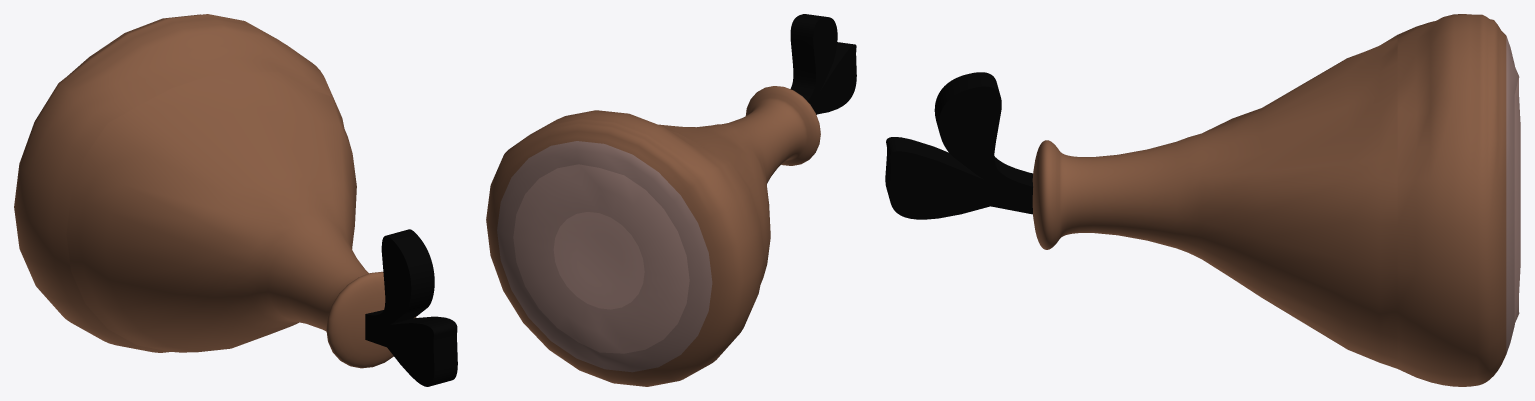
The model's file is SchinkenOne.fbx.
The picture shows the model from 3 angles, left to right: view 1: azimuth 30°, elevation 25°; view 2: azimuth 150°, elevation 25°; view 3: azimuth 270°, elevation 25°; orthographic projection. The views are drawn at different scales.
Visible parts, largest first — view 1: Lathe_1; view 2: Lathe_1; view 3: Lathe_1.
Part boxes in pixels (x1,y1,x2,y2): Lathe_1: (14,14,457,386); Lathe_1: (486,14,856,386); Lathe_1: (885,14,1520,386).
Size of the model in its own units: 1822 by 1764 by 3005.
